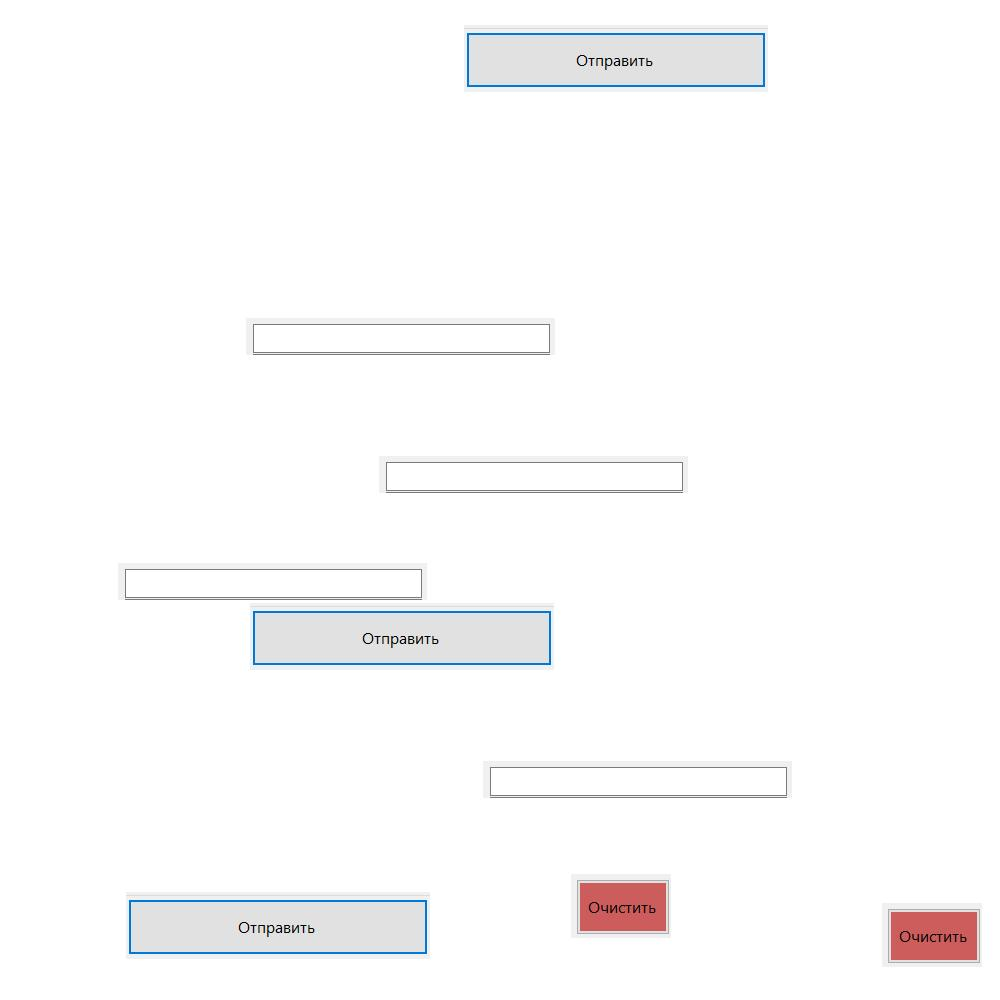Button: (250, 603, 554, 670), (126, 892, 430, 959), (464, 25, 768, 92), (571, 874, 671, 938), (882, 903, 982, 967)
EditText-: (118, 563, 427, 600), (246, 318, 555, 355), (483, 761, 792, 798), (379, 456, 688, 493)
